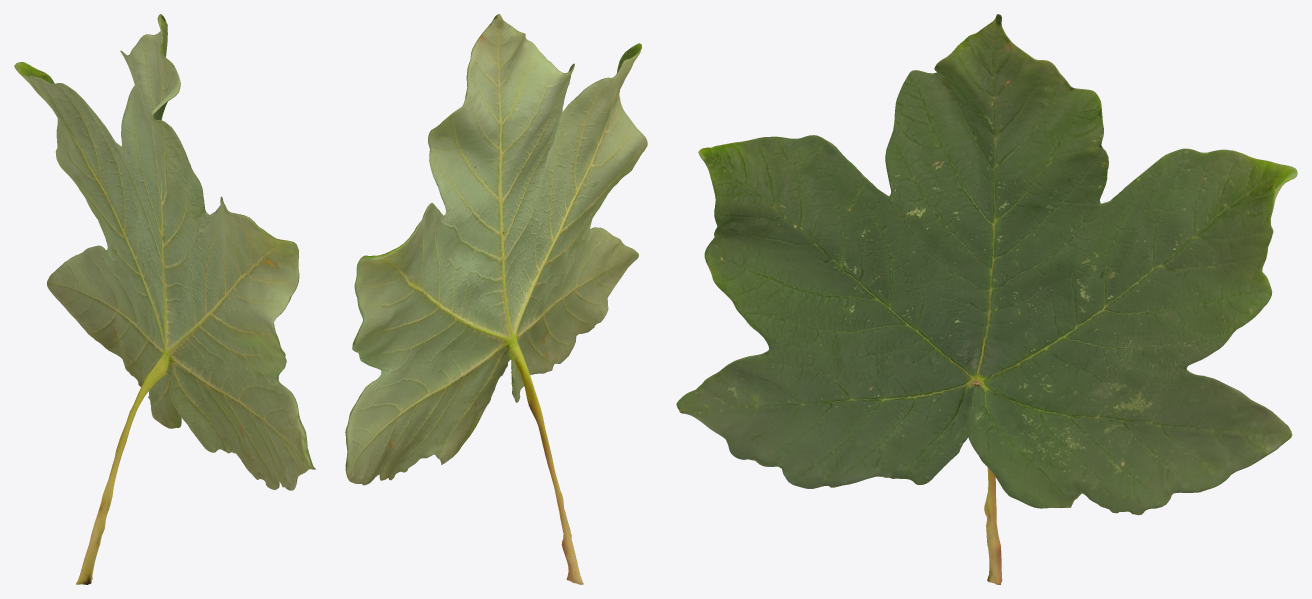
3 views of the same model, side by side, from view 1: azimuth 30°, elevation 25°; view 2: azimuth 150°, elevation 25°; view 3: azimuth 270°, elevation 25° (orthographic). The views are drawn at different scales.
Visible parts, largest first — view 1: leaf.001; view 2: leaf.001; view 3: leaf.001.
Boxes of the visible parts, box(x1,y1,x2,y2) form: leaf.001: box(14, 14, 315, 584); leaf.001: box(345, 14, 647, 584); leaf.001: box(676, 14, 1297, 584).
Size of the model in its own units: 3.89 by 15.6 by 14.41.
1 material, 1 textured.
